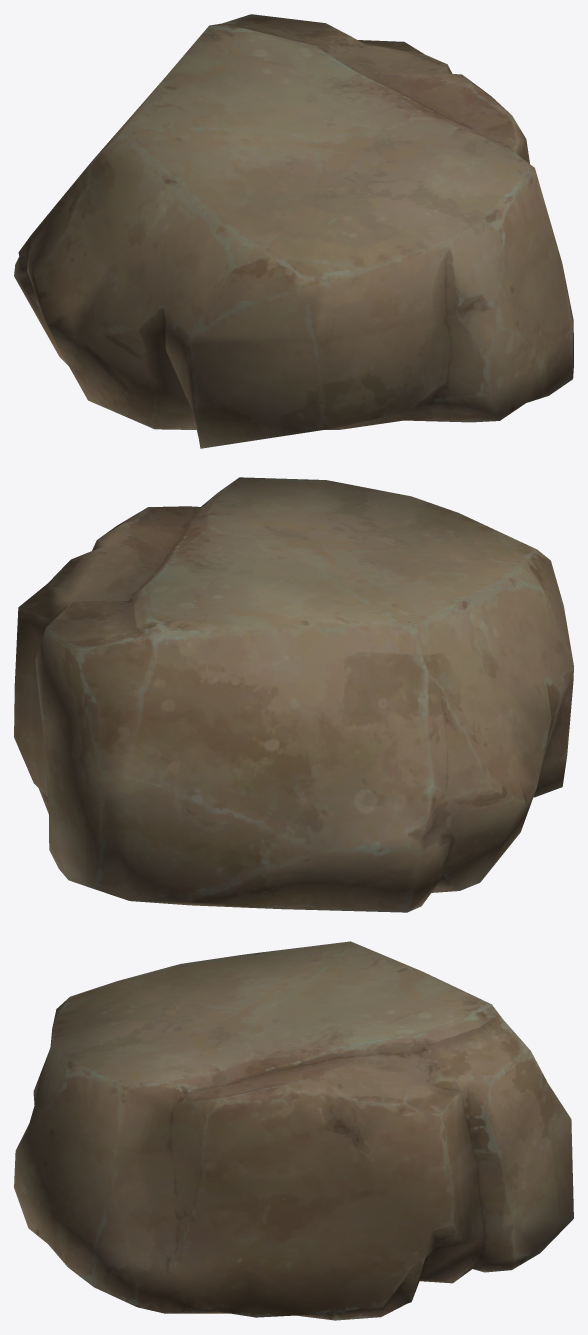
File: Area_Dq_Rock_YXG_Full_Moss_S_03.fbx
3 renders of one model, top to bottom at view 1: azimuth 30°, elevation 25°; view 2: azimuth 150°, elevation 25°; view 3: azimuth 270°, elevation 25°, orthographic. The views are drawn at different scales.
Parts seen in each view (by area): view 1: Area_Dq_Rock_YXG_Full_Moss_S_03_Lod0; view 2: Area_Dq_Rock_YXG_Full_Moss_S_03_Lod0; view 3: Area_Dq_Rock_YXG_Full_Moss_S_03_Lod0.
Part boxes in pixels (x1,y1,x2,y2): Area_Dq_Rock_YXG_Full_Moss_S_03_Lod0: (14,14,573,448); Area_Dq_Rock_YXG_Full_Moss_S_03_Lod0: (14,477,573,912); Area_Dq_Rock_YXG_Full_Moss_S_03_Lod0: (14,941,573,1320).
Size of the model in its own units: 2 by 1.19 by 2.45.
Materials: 2 (2 with a texture image).
